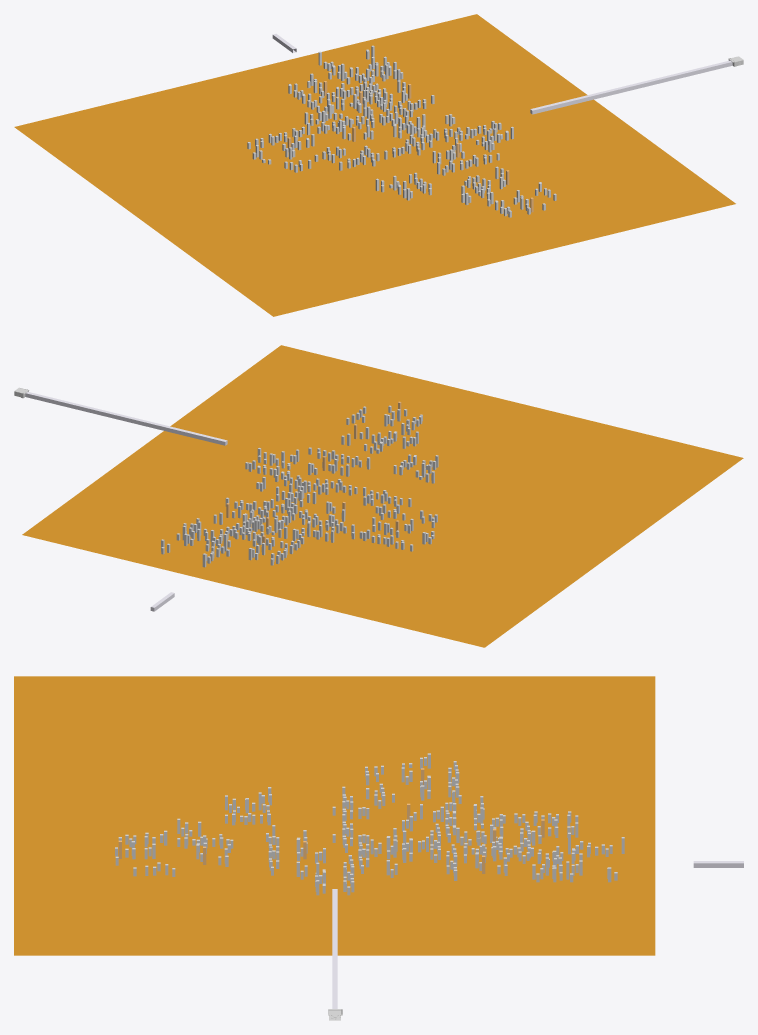
3 renders of one model, top to bottom at view 1: azimuth 30°, elevation 25°; view 2: azimuth 150°, elevation 25°; view 3: azimuth 270°, elevation 25°, orthographic. The views are drawn at different scales.
Visible parts, largest first — view 1: Cube.038, Cube.009; view 2: Cube.038, Cube.009; view 3: Cube.038, Cube.009.
Part boxes in pixels (x1,y1,x2,y2): Cube.038: (14,14,735,316); Cube.009: (530,60,732,114); Cube.038: (22,345,743,647); Cube.009: (25,392,227,445); Cube.038: (14,676,655,955); Cube.009: (332,889,337,1008).
Size of the model in its own units: 2379 by 104 by 2035.
